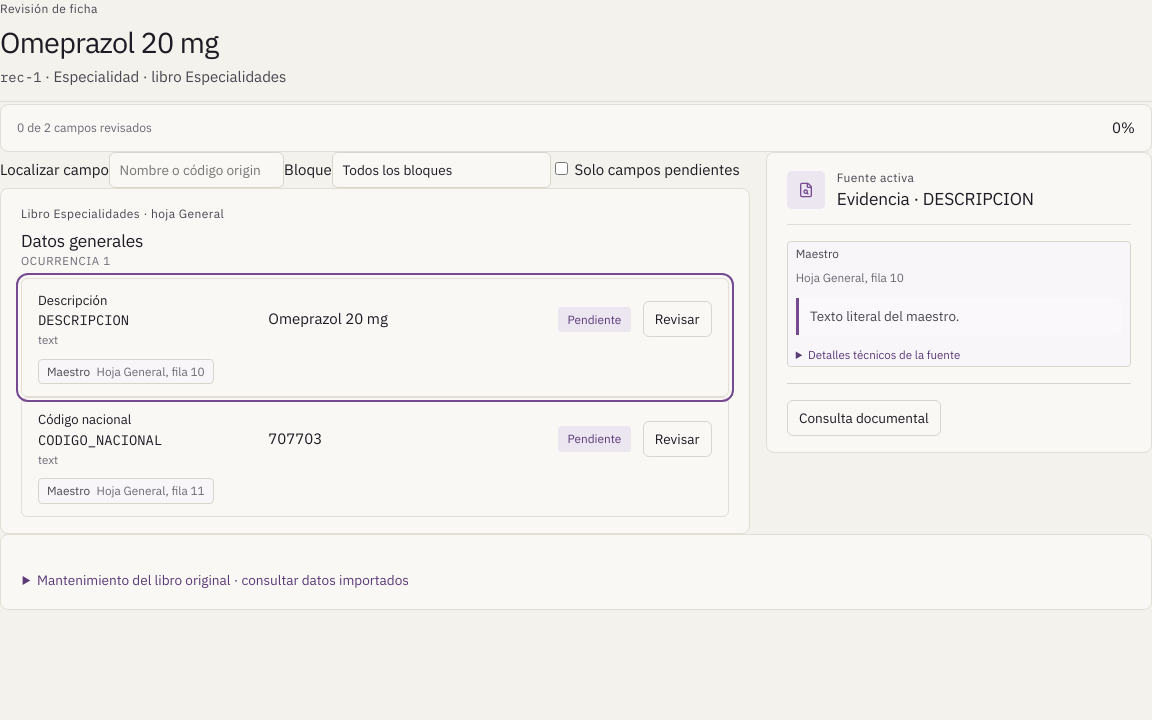
Scenario: ofrece al técnico sólo las decisiones de revisión que puede firmar
Check: the heading "Omeprazol 20 mg" is shown, box [0,23,219,61]
What coordinates should you click on to do the following:
click the button "Revisar" in the row of "Descripción"
I would click on:
 (677, 319)
Its box is [643,301,712,337].
(page scrolled)
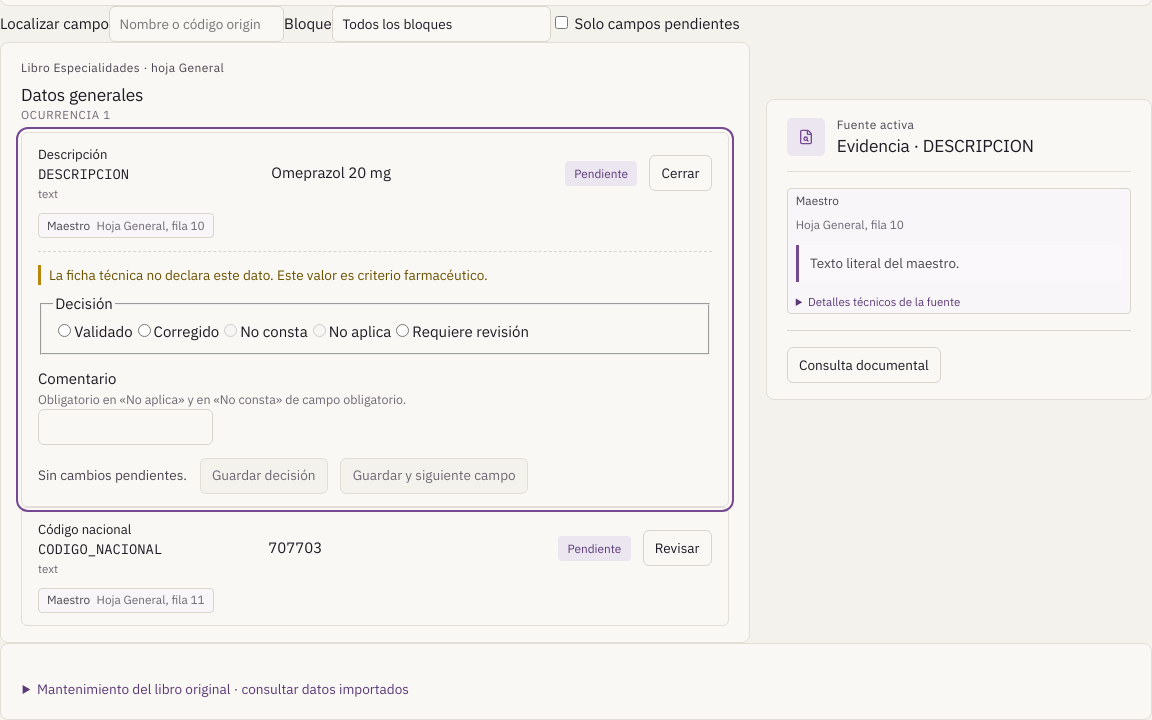
Check: the radio button labelled "No consta" is disabled, box [224,324,237,337]
Check: the radio button labelled "No aplica" is disabled, box [313,324,326,337]
Check: the radio button labelled "Corregido" is enabled, box [138,324,151,337]
